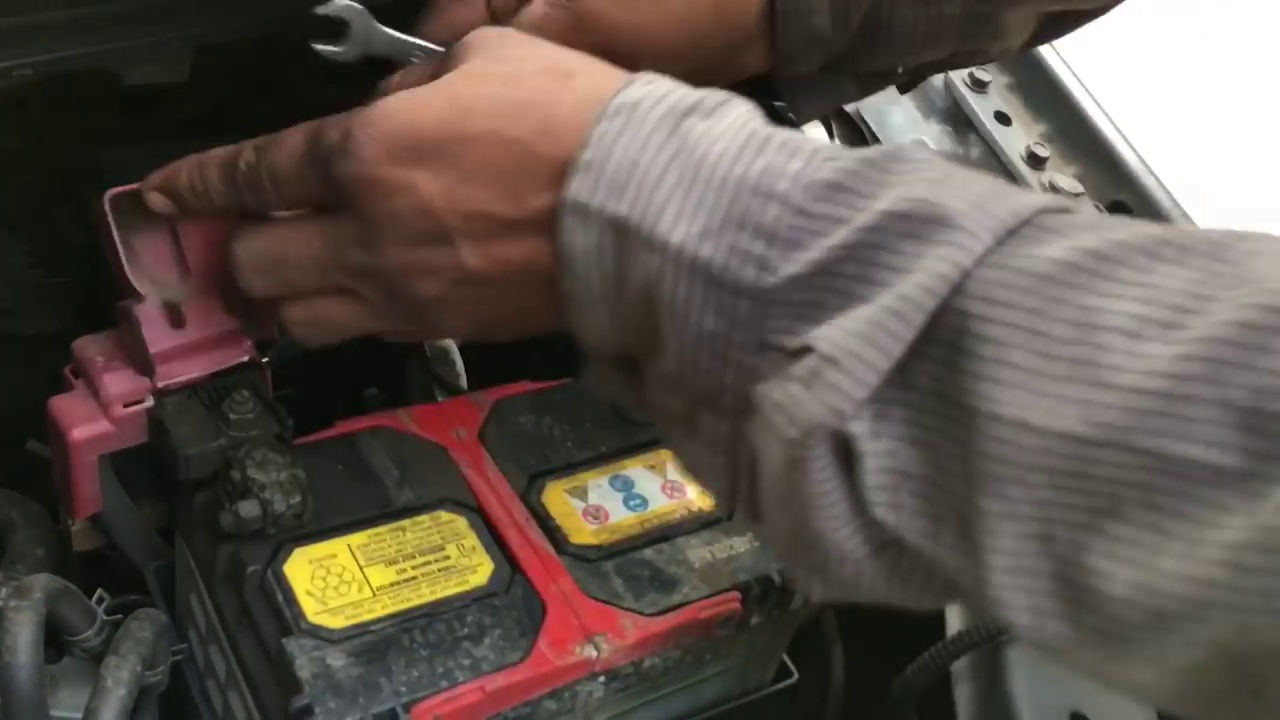battery: (182, 364, 816, 687)
pos_connected: (125, 283, 330, 551)
pos_touched: (105, 127, 329, 536)
